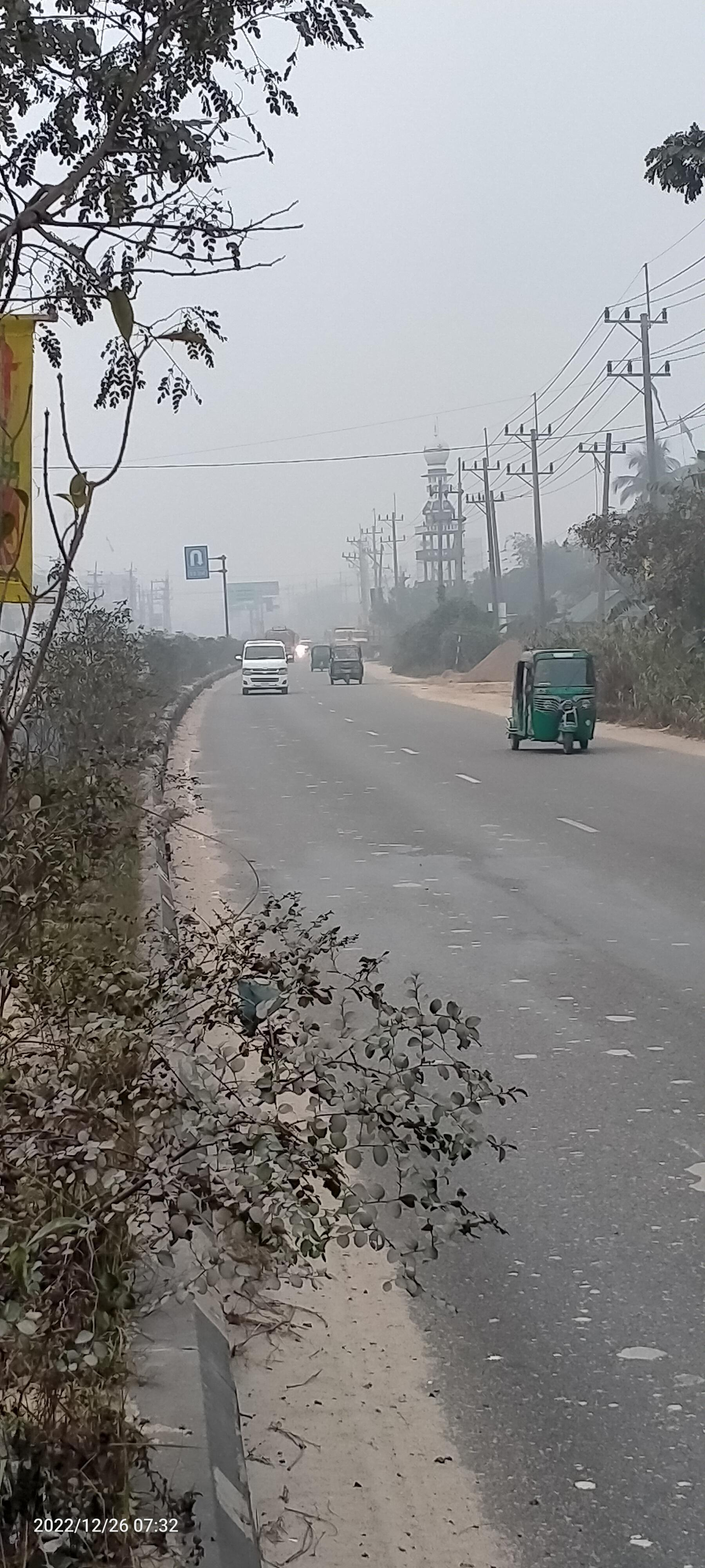Car: (237, 633, 294, 704)
